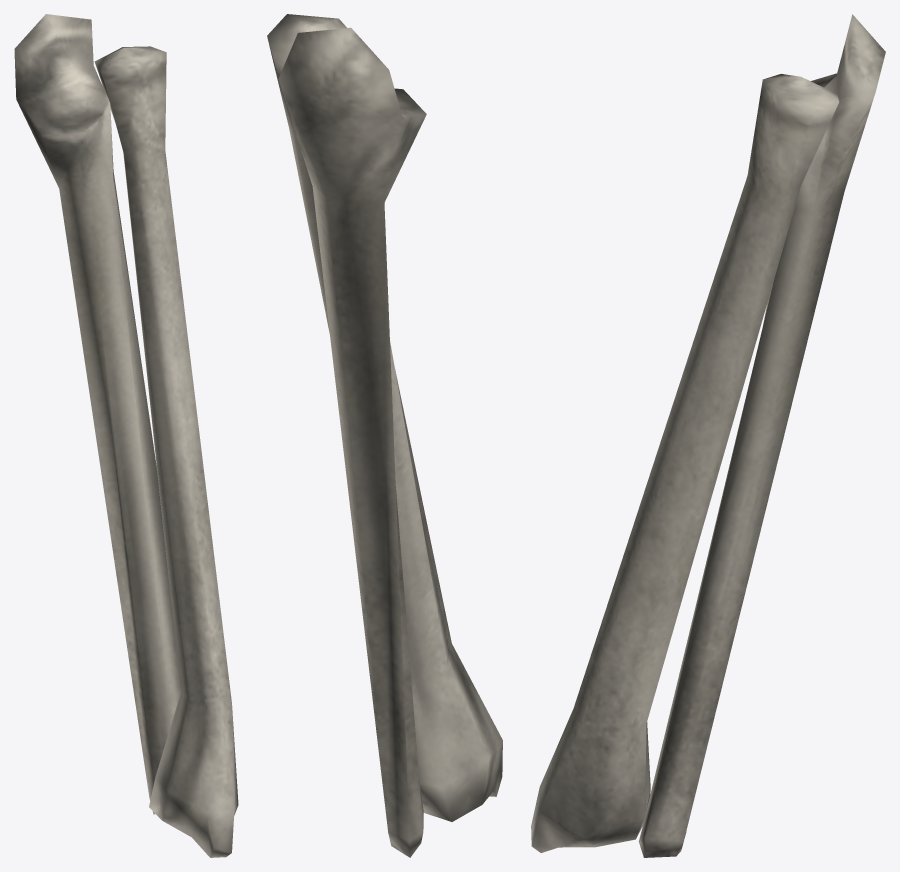
The model's file is anteBrazoIzq.obj.
The picture shows the model from 3 angles, left to right: view 1: azimuth 30°, elevation 25°; view 2: azimuth 150°, elevation 25°; view 3: azimuth 270°, elevation 25°; orthographic projection. The views are drawn at different scales.
Visible parts, largest first — view 1: anteBrazoIzq; view 2: anteBrazoIzq; view 3: anteBrazoIzq.
Boxes of the visible parts, box(x1,y1,x2,y2) form: anteBrazoIzq: box(14, 14, 238, 857); anteBrazoIzq: box(267, 14, 502, 857); anteBrazoIzq: box(531, 14, 885, 857).
Bounding box in the file's own units: 0.0503 × 0.2922 × 0.1144.
